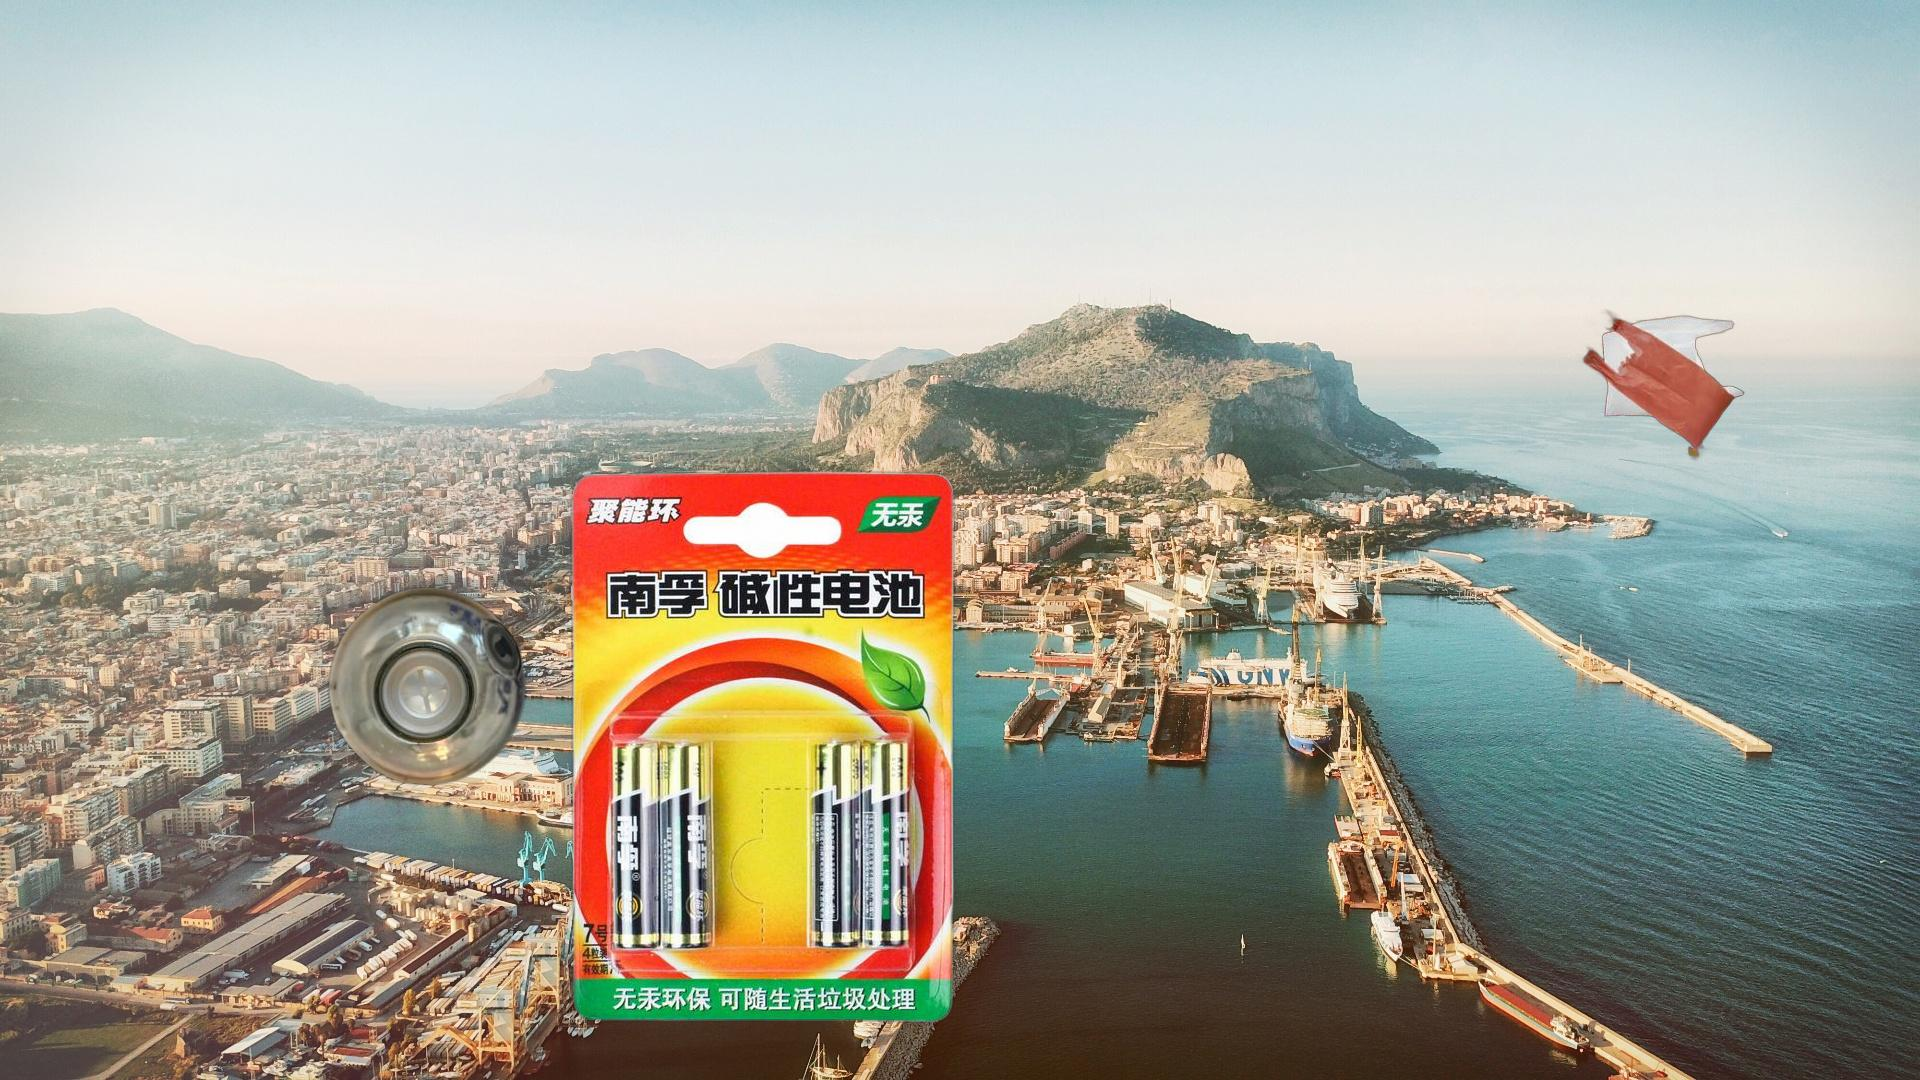battery: (567, 465, 959, 1029)
glass: (324, 584, 529, 789)
plastic-bag: (1578, 307, 1747, 464)
